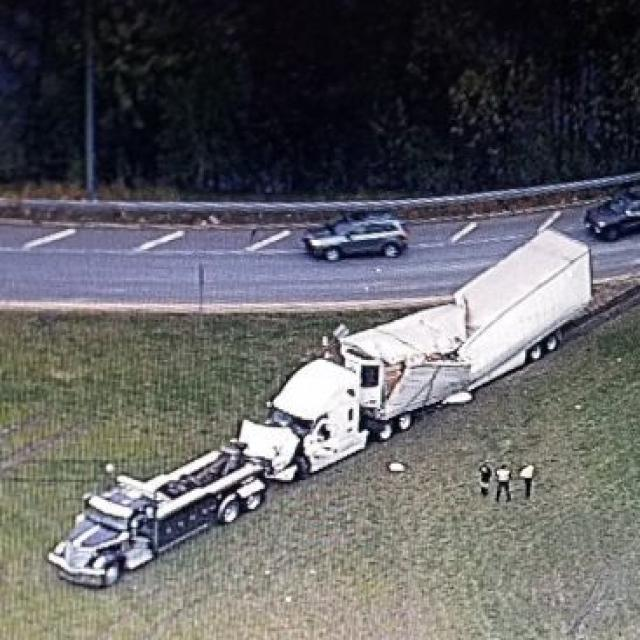traffic_incident: (247, 209, 568, 480)
